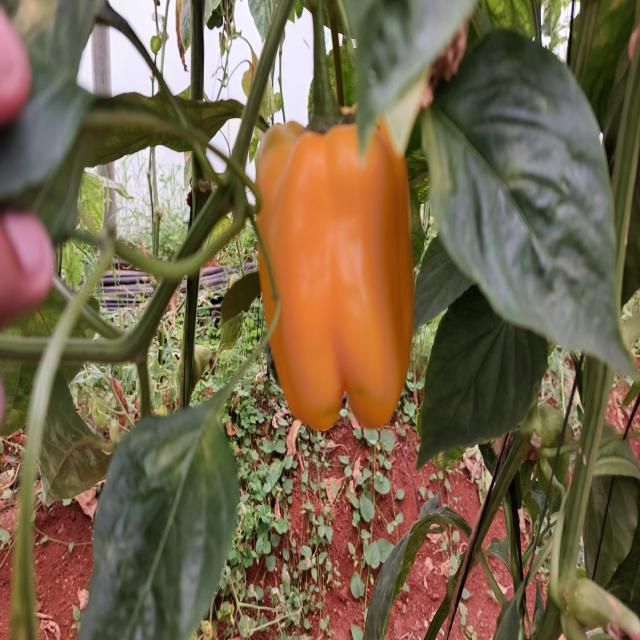Yellow-Ready-to-Harvest: (253, 112, 412, 434)
